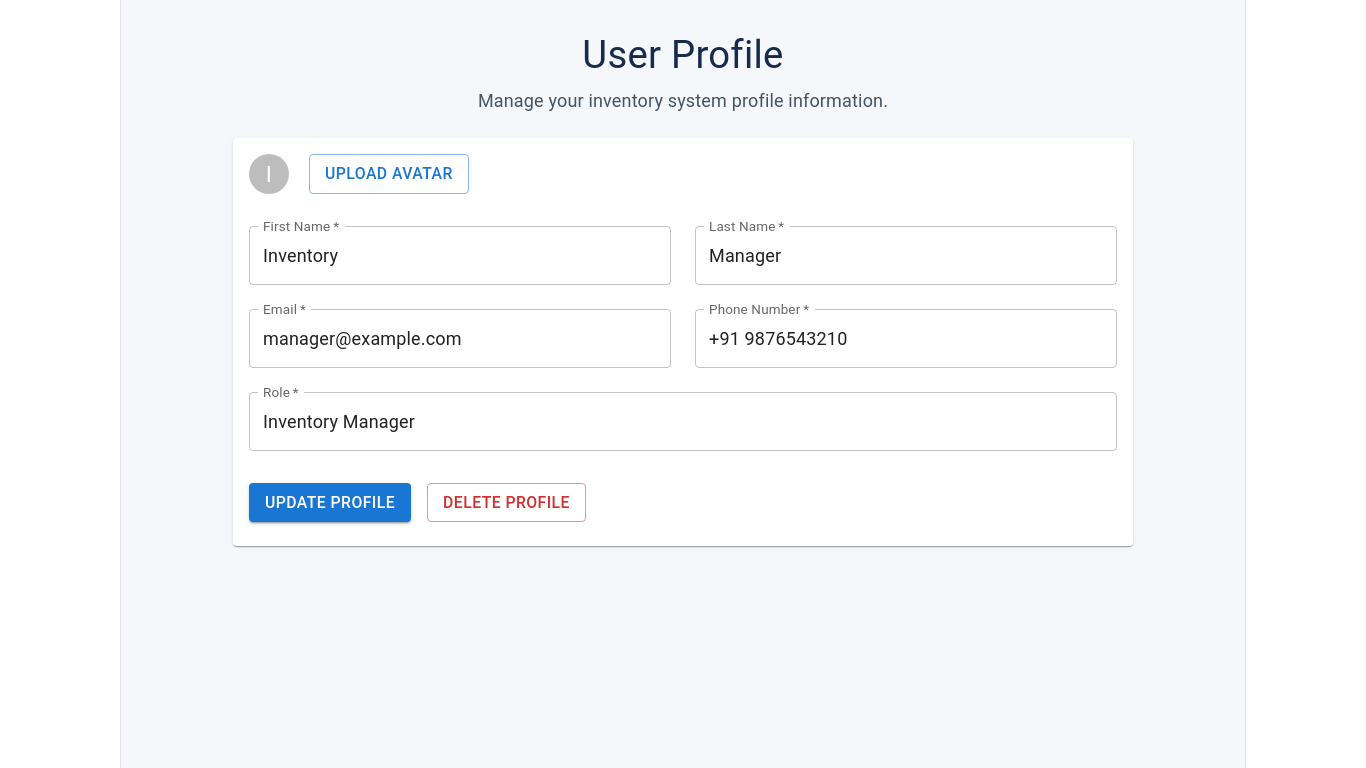
Profile component › shows delete confirmation dialog
This screenshot has width=1366, height=768.
Expected: the field showing "Inventory" is shown, [249,226,671,285]
Step 1. Click the button "Delete Profile" → (506,503), box [427,483,586,522]
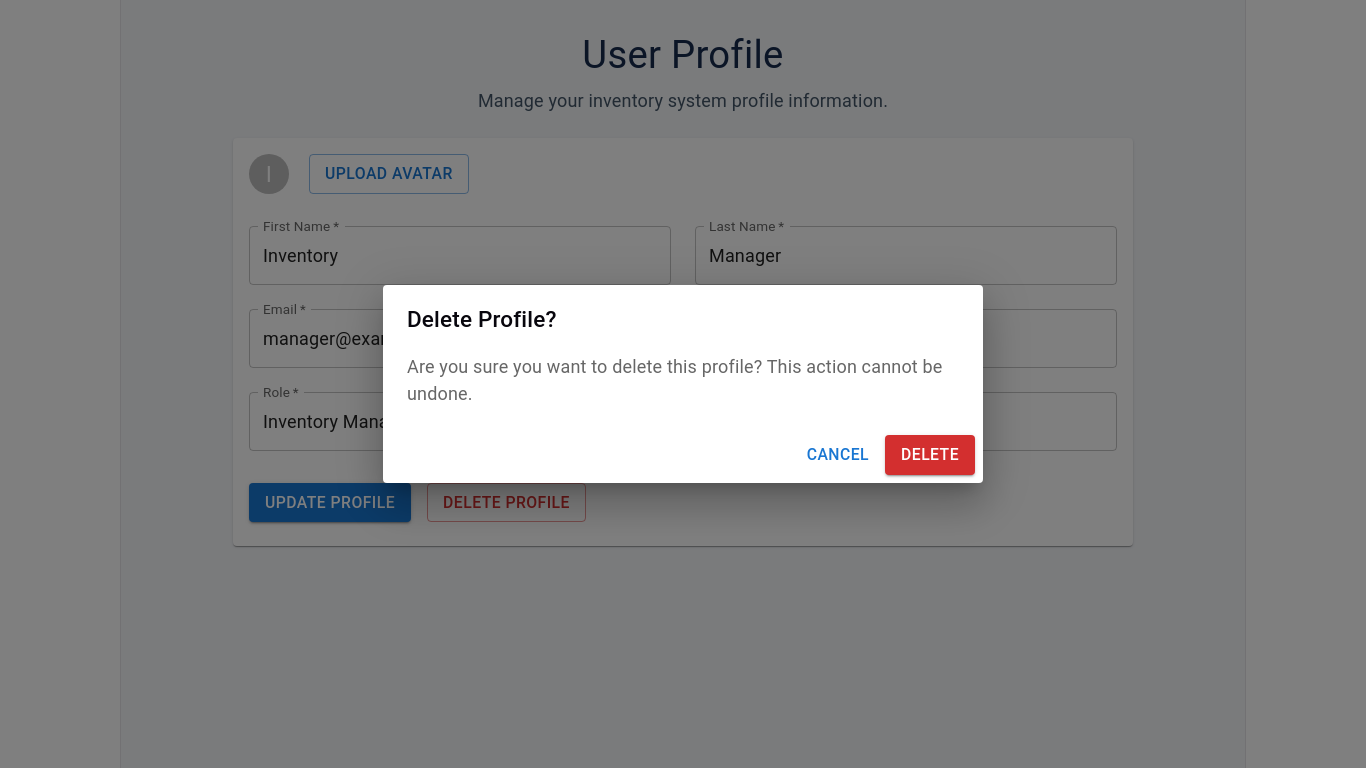
Expected: the dialog is shown, [383,285,983,483]
Expected: the text "Are you sure you want to delete this profile" is shown, [407,356,942,404]
Expected: the button "Cancel" is shown, [799,435,877,475]
